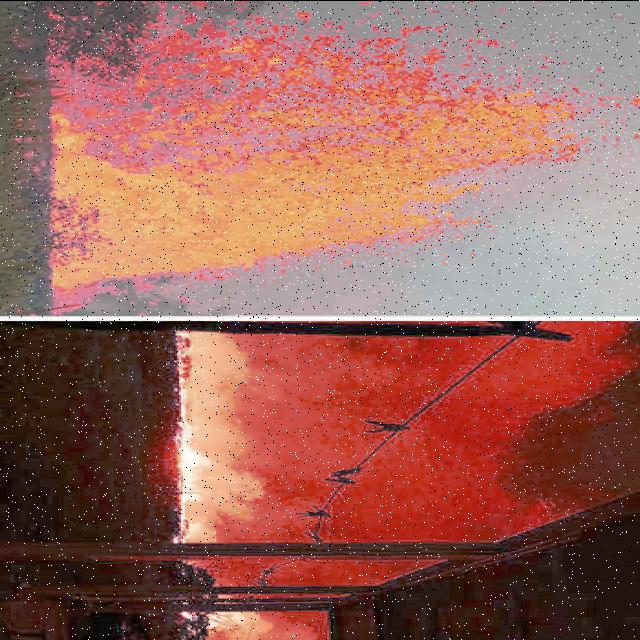api: (42, 1, 596, 317), (173, 334, 199, 441), (177, 437, 209, 511)
asap: (198, 333, 386, 448), (181, 445, 341, 546), (197, 605, 326, 640)
